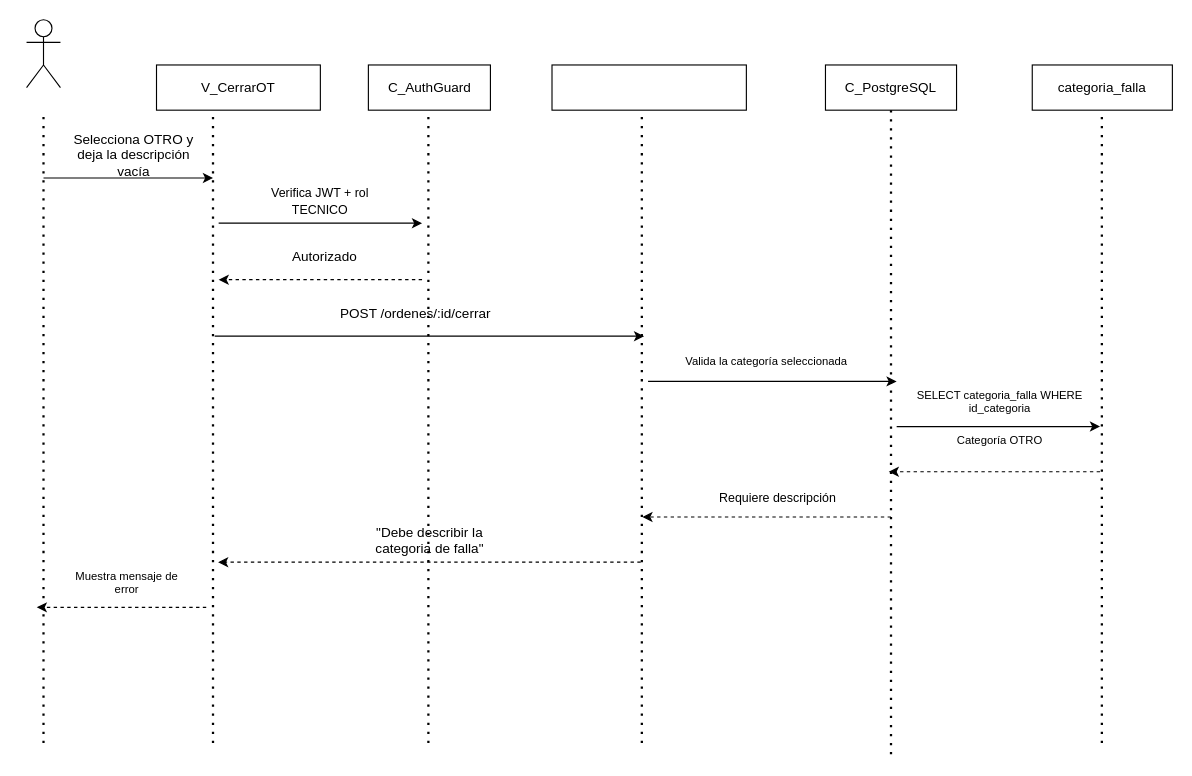
This 1192x776 diagram has some shape labels left out. The centre of each missing label's shape, as x and y in pixels:
C_OTController: the point at 648,87
Técnico: the point at 42,53
